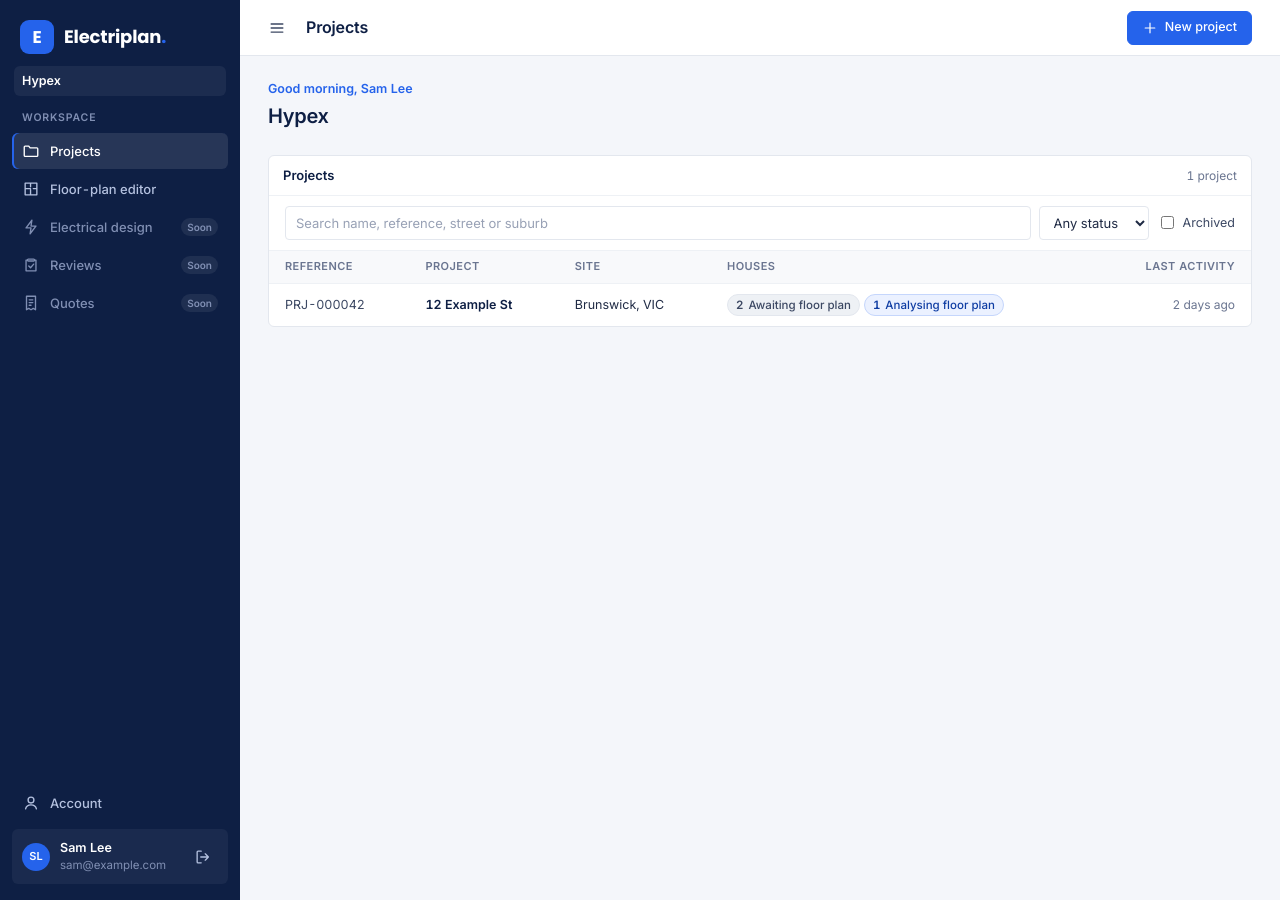
Scenario: Home: the project list › searches, filters by status and shows archived projects
Check: the link "12 Example St" is shown, box [425,297,512,312]
In the search field named "Search projects": (658, 223) [285,206,1031,240], type "brunswick"
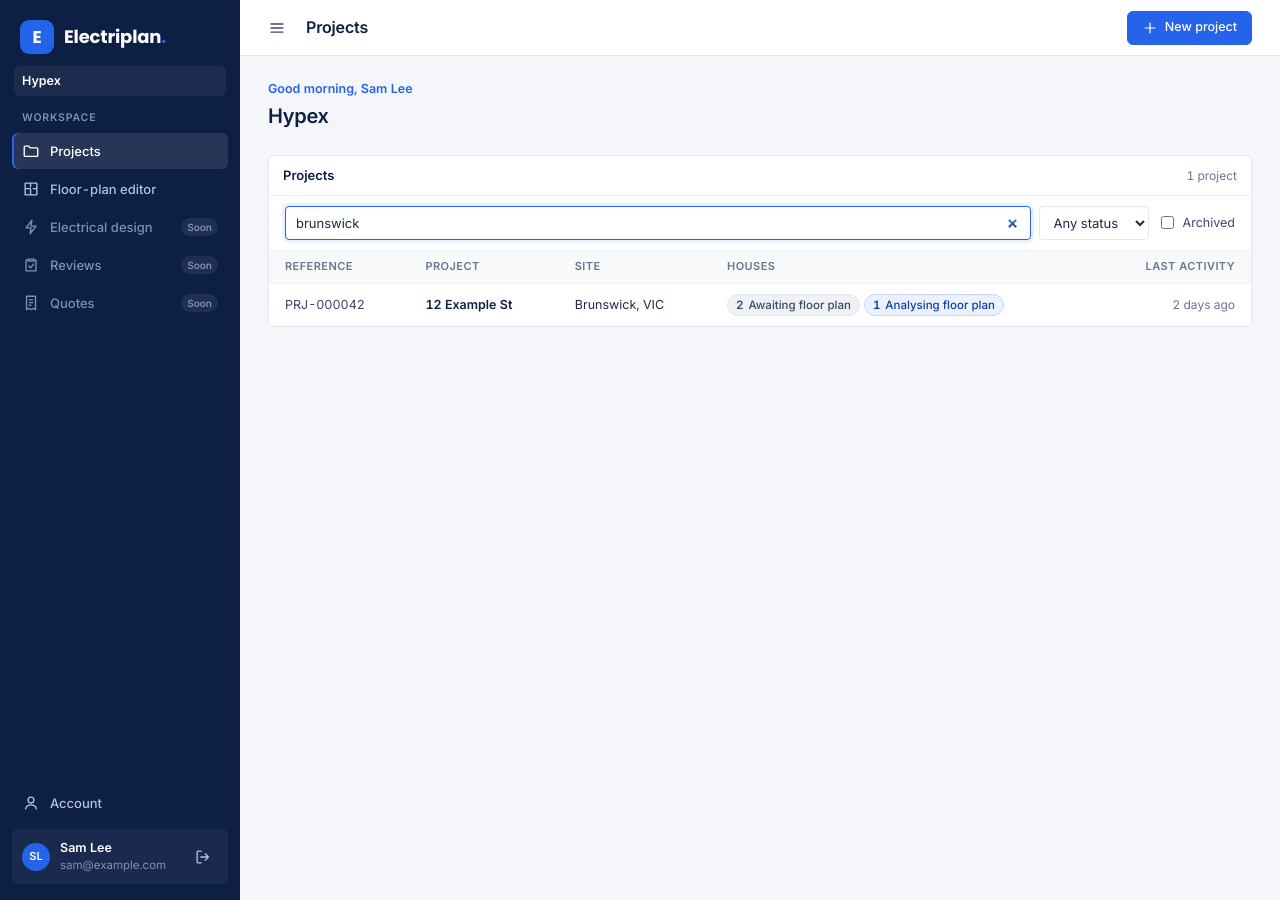
Select "On hold" in the dropdown named "Status": (1094, 223) [1039,206,1149,240]
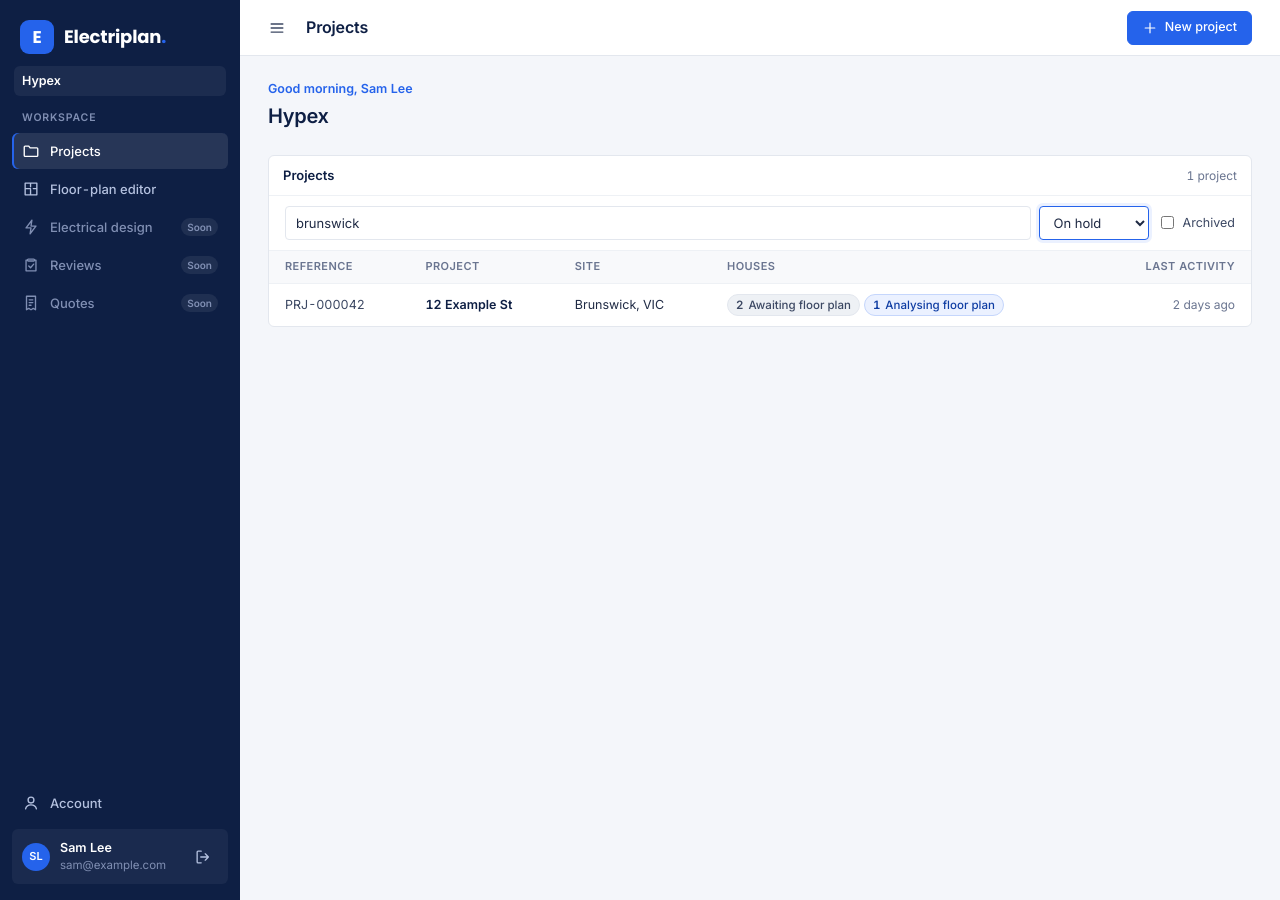
Click the checkbox labelled "Archived": click(1167, 223) [1161,216,1174,230]
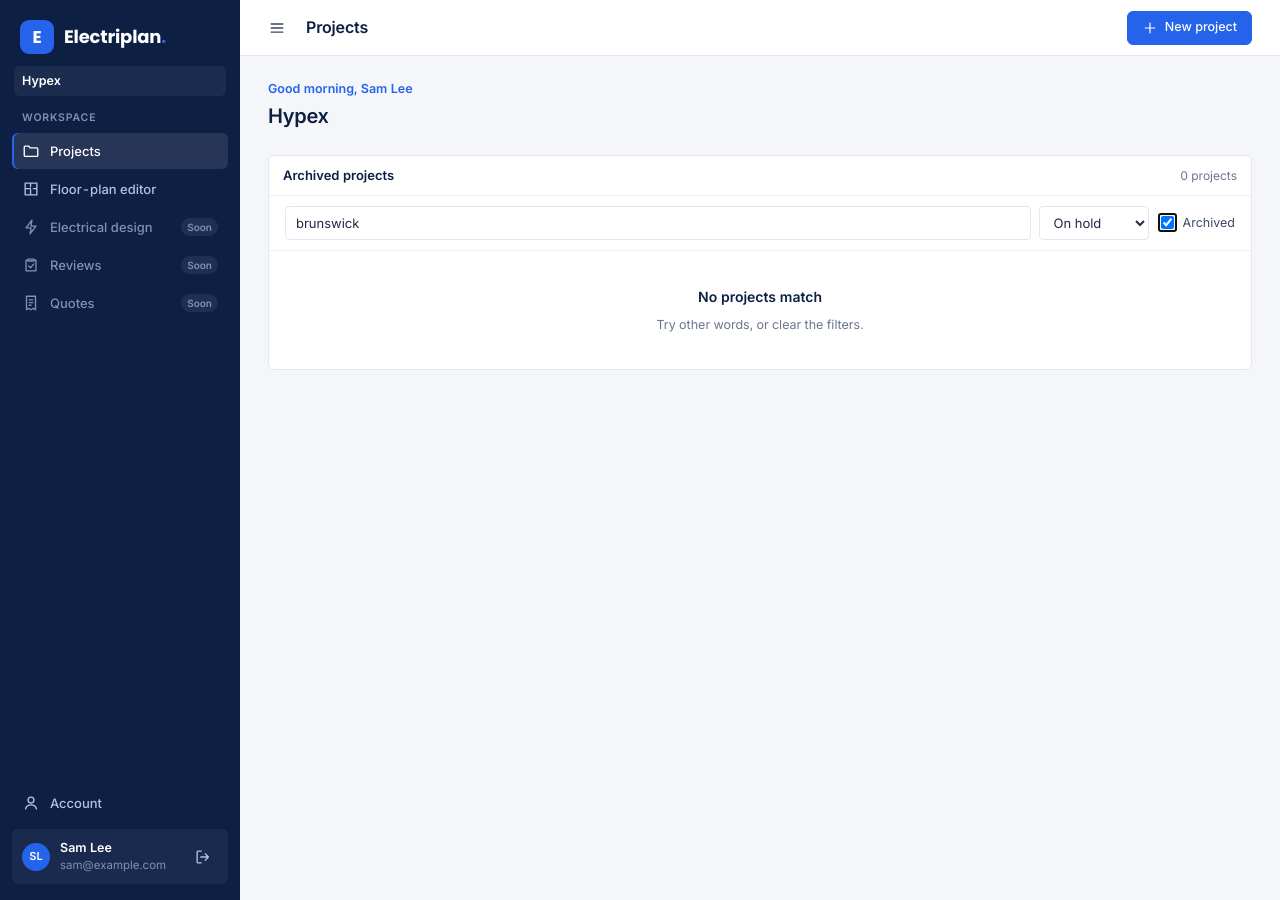
Check: the heading "No projects match" is shown, box [698,287,822,307]
Check: the heading "Archived projects" is shown, box [283,166,394,185]
